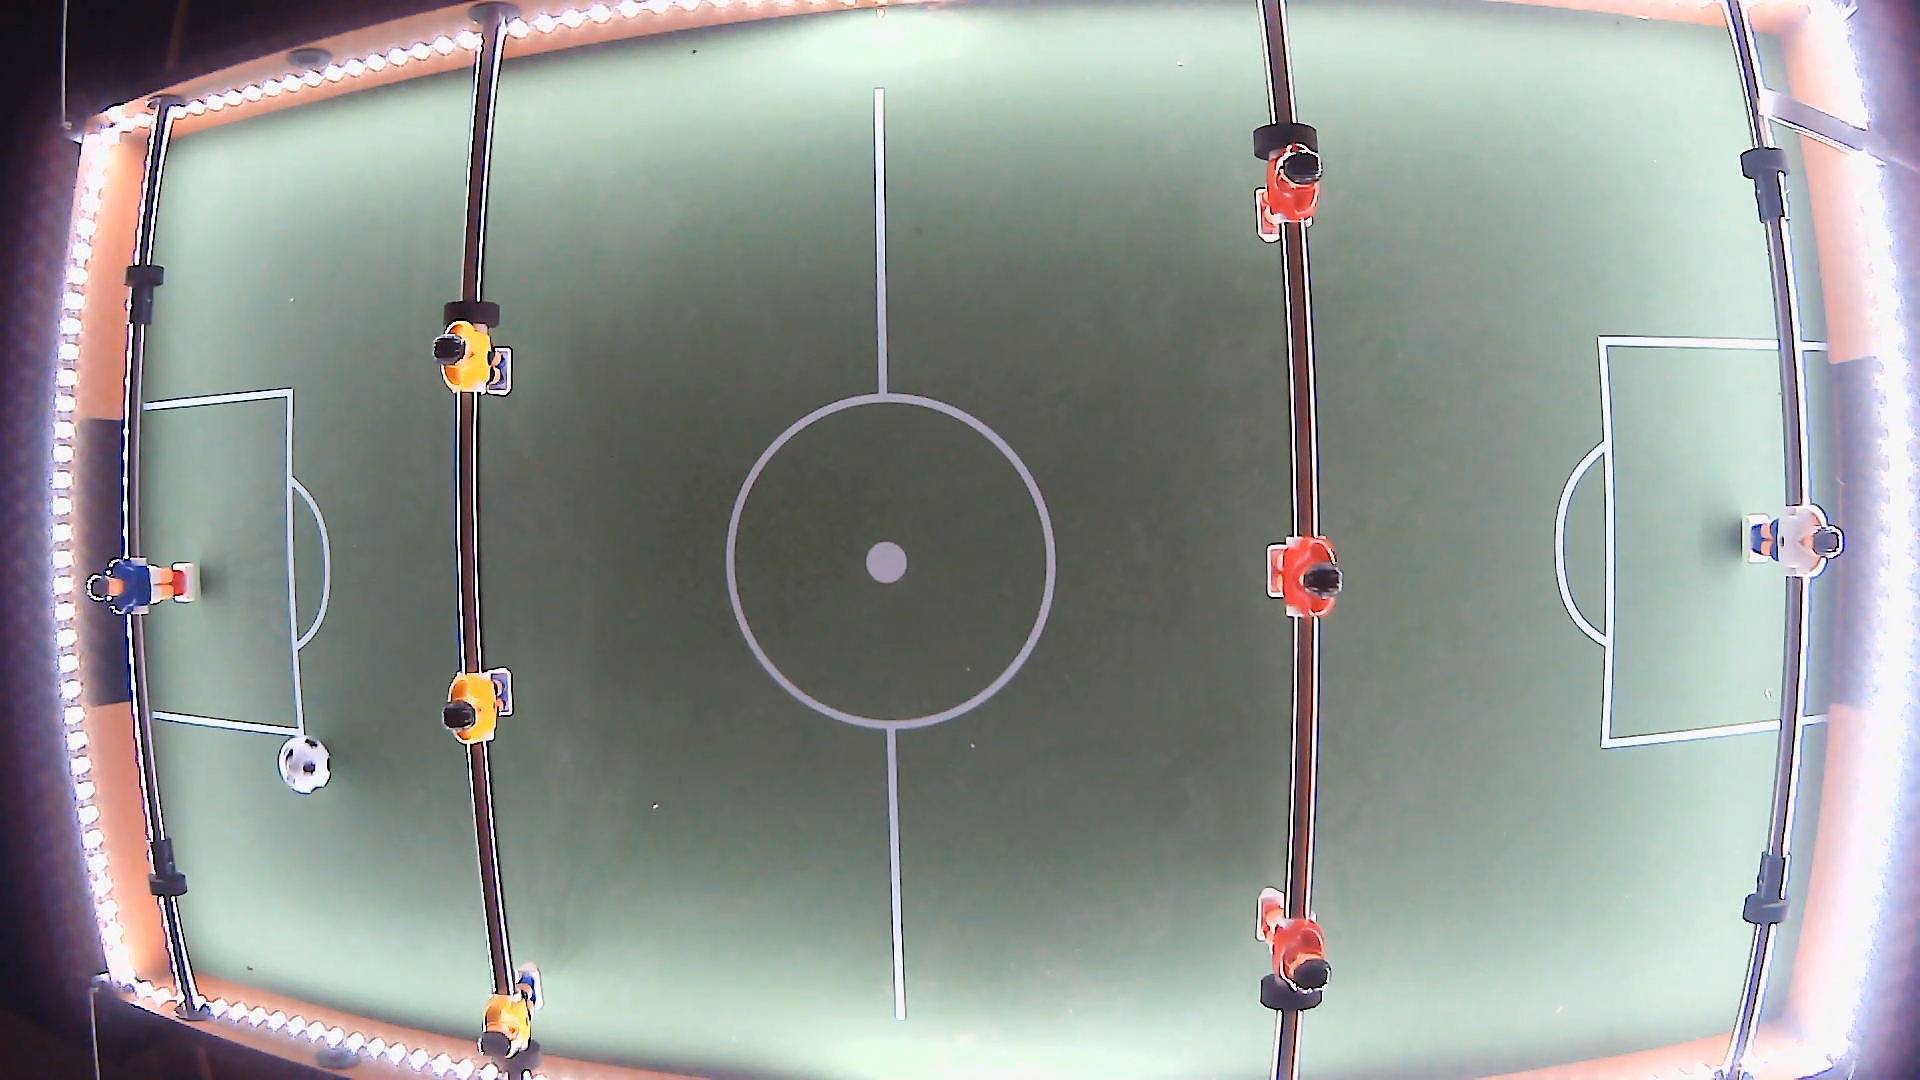Foosball: (278, 736, 332, 795)
